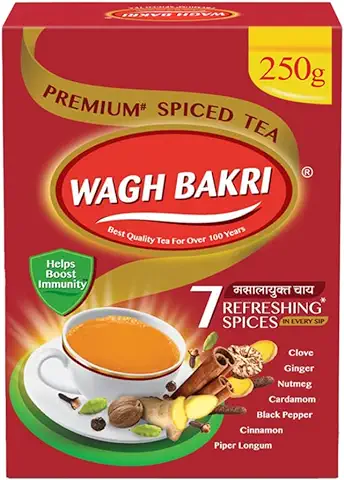Tea: (1, 5, 344, 479)
